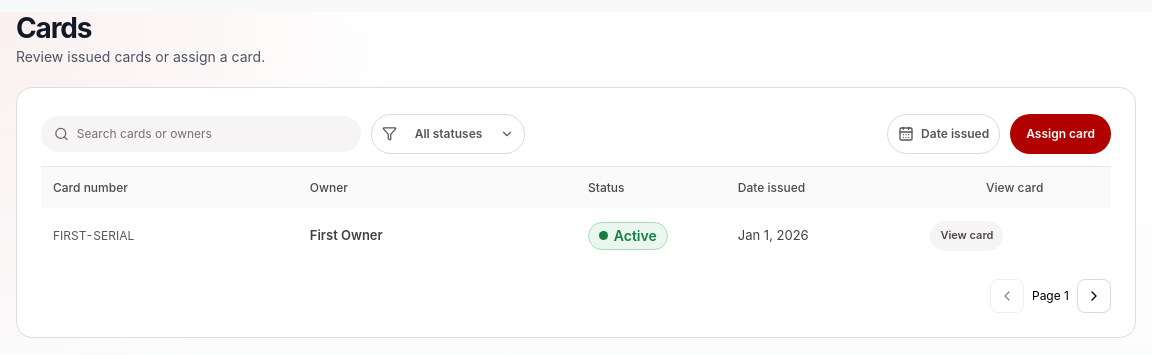
Supervisor card management tabs › navigates between issued-card cursor pages and updates the page indicator
expect the text "FIRST-SERIAL" is shown: met, box [41,209,298,263]
expect the text "Page 1" is shown: met, box [1032,287,1069,305]
Click the button named "Next page": (1094, 296) [1077,279,1111,313]
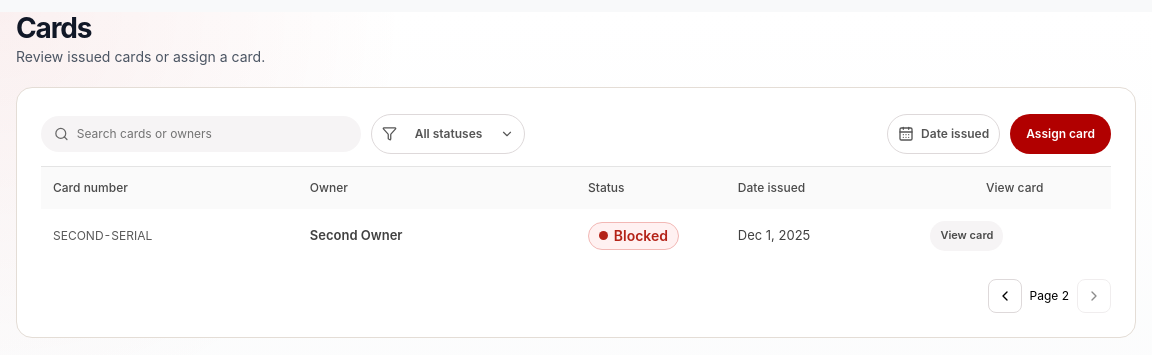
expect the text "SECOND-SERIAL" is shown: met, box [41,209,298,263]
expect the text "FIRST-SERIAL" is gone: met
expect the text "Page 2" is shown: met, box [1030,287,1069,305]
Click the button named "Previous page": (1004, 296) [988,279,1022,313]
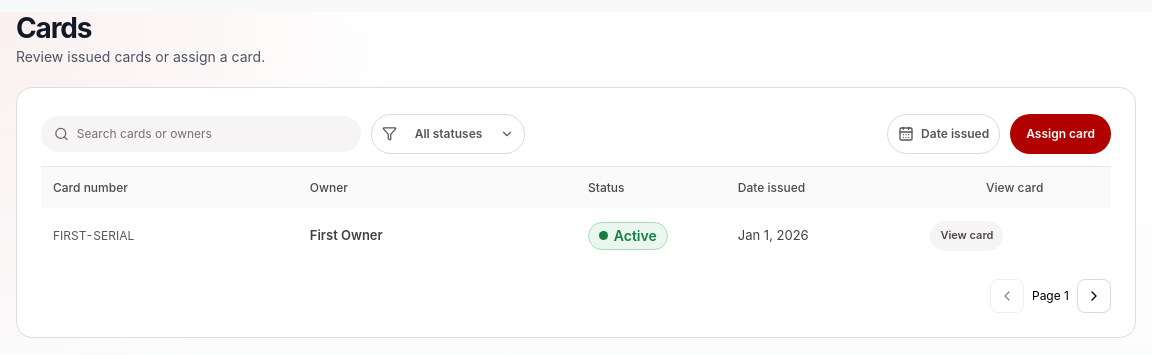
expect the text "FIRST-SERIAL" is shown: met, box [41,209,298,263]
expect the text "SECOND-SERIAL" is gone: met
expect the text "Page 1" is shown: met, box [1032,287,1069,305]
